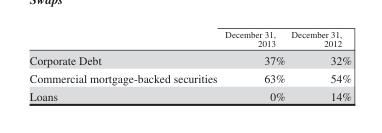table: (28, 28, 350, 102)
table column: (28, 28, 220, 102), (220, 28, 287, 102), (287, 28, 350, 102)
table column header: (28, 28, 350, 50)
table row: (28, 28, 350, 50), (28, 50, 350, 68), (28, 68, 350, 86), (28, 86, 350, 102)
